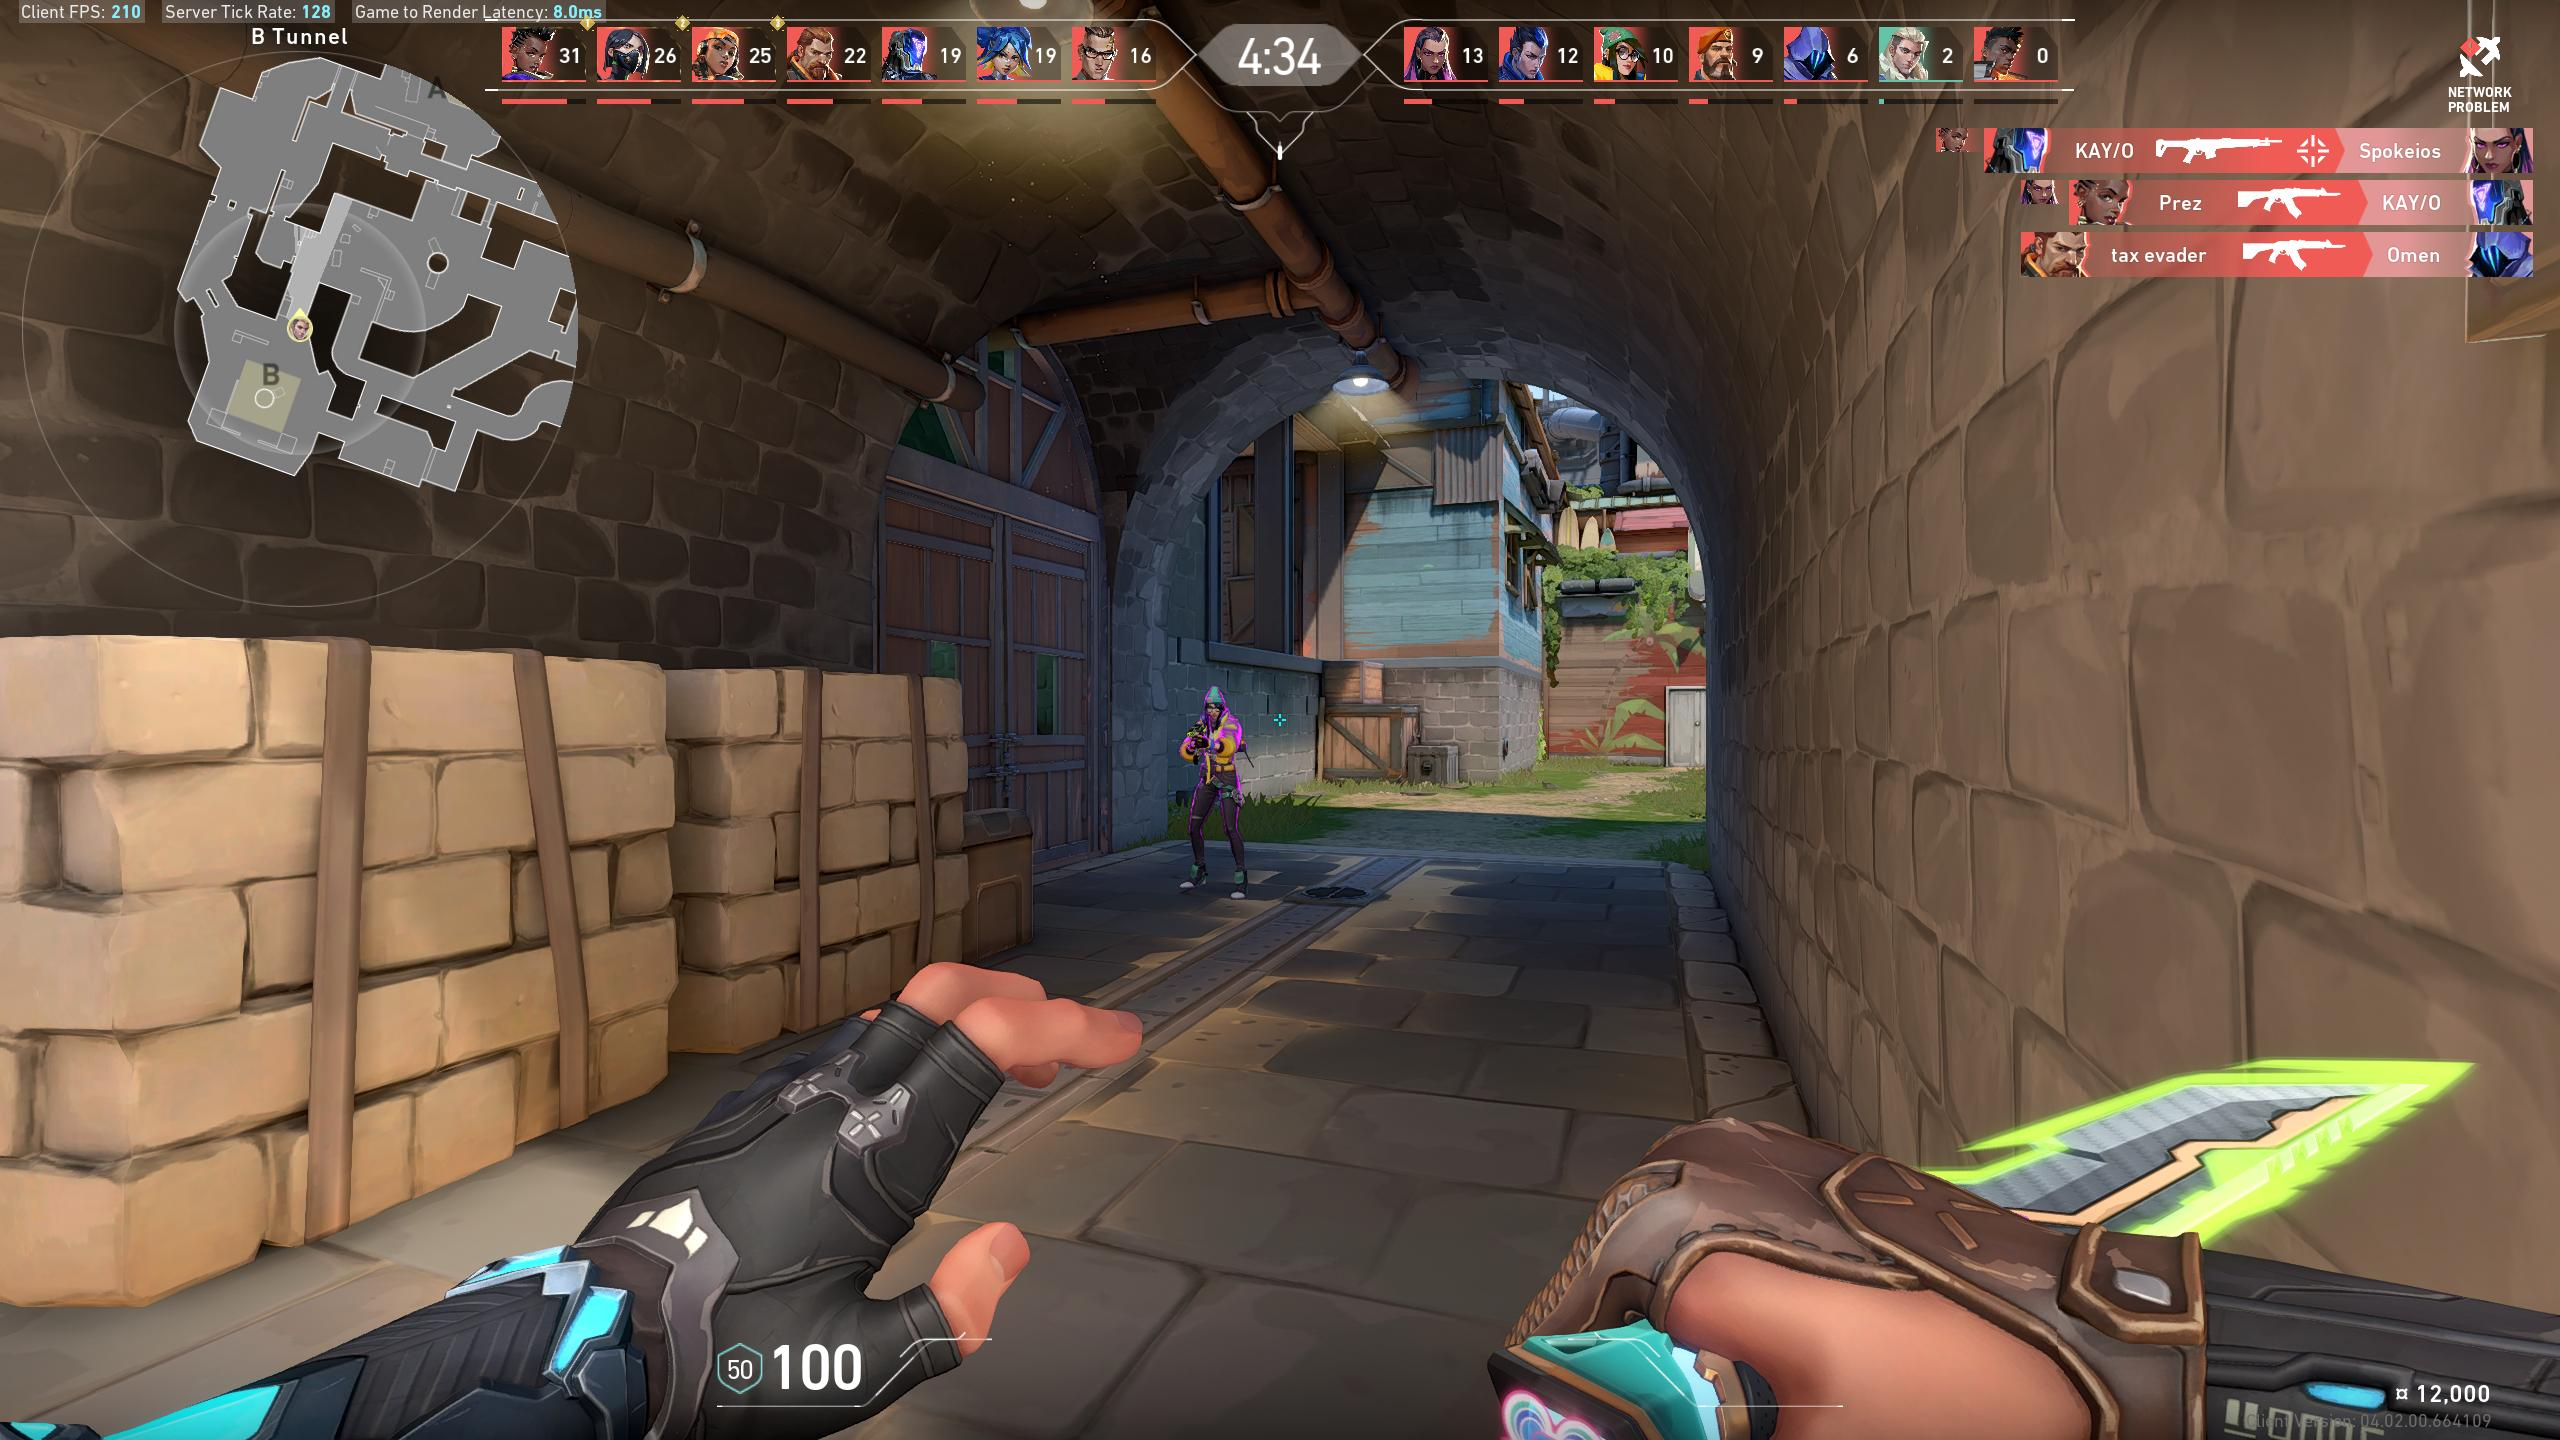enemyBody: (1206, 721, 1225, 763)
enemyHead: (1208, 703, 1218, 717)
